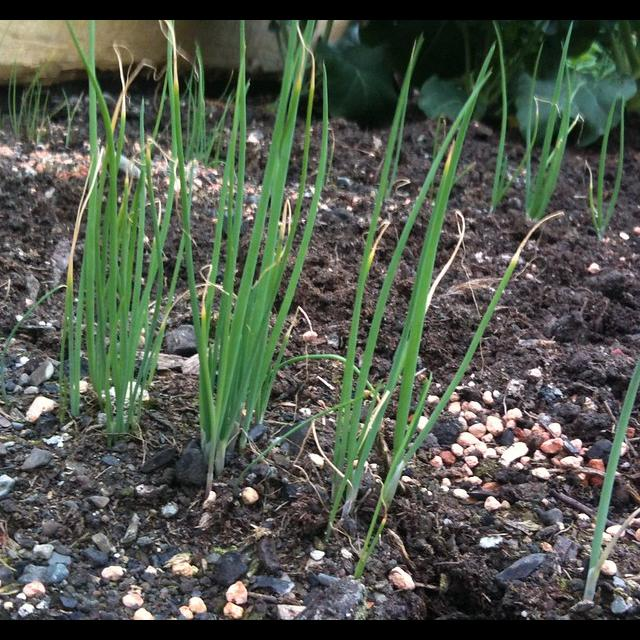green_onion: (332, 46, 494, 528), (187, 20, 322, 484), (80, 26, 181, 444)
